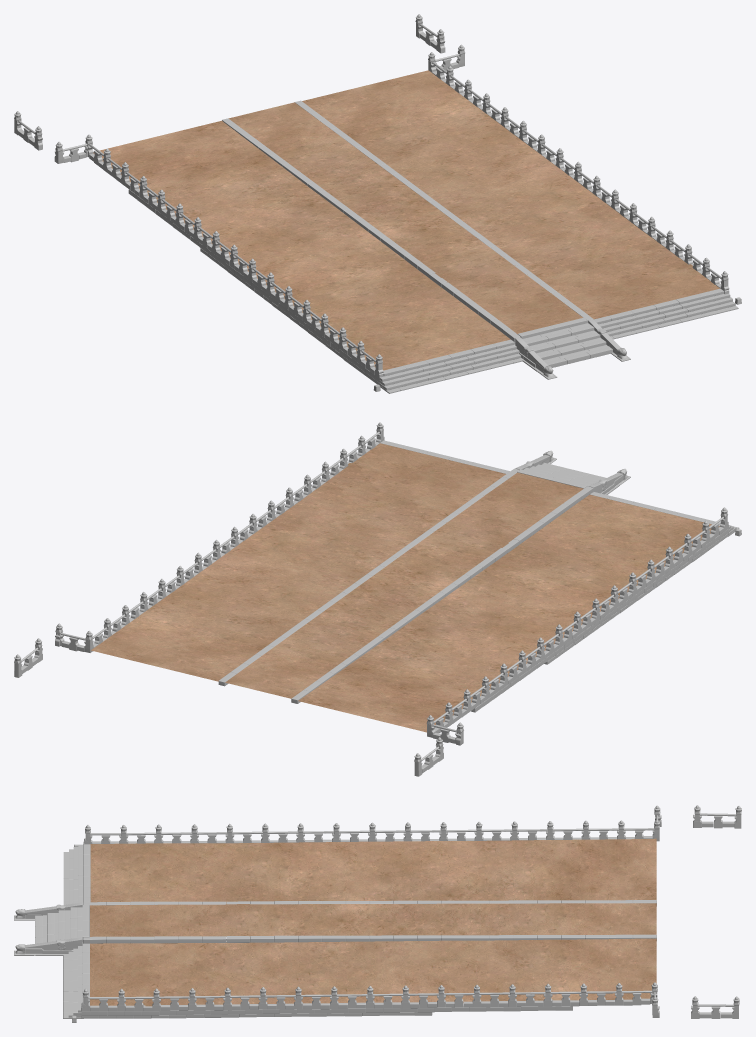
Rendered from SM_GHM_Woldae.fbx.
The picture shows the model from 3 angles, top to bottom: view 1: azimuth 30°, elevation 25°; view 2: azimuth 150°, elevation 25°; view 3: azimuth 270°, elevation 25°; orthographic projection. The views are drawn at different scales.
Parts seen in each view (by area): view 1: SM_GHM_Woldae; view 2: SM_GHM_Woldae; view 3: SM_GHM_Woldae.
Boxes of the visible parts, bbox=[...] form: SM_GHM_Woldae: bbox=[14, 14, 741, 393]; SM_GHM_Woldae: bbox=[14, 422, 741, 776]; SM_GHM_Woldae: bbox=[14, 805, 741, 1022].
Bounding box in the file's own units: 3462 × 296 × 5502.
